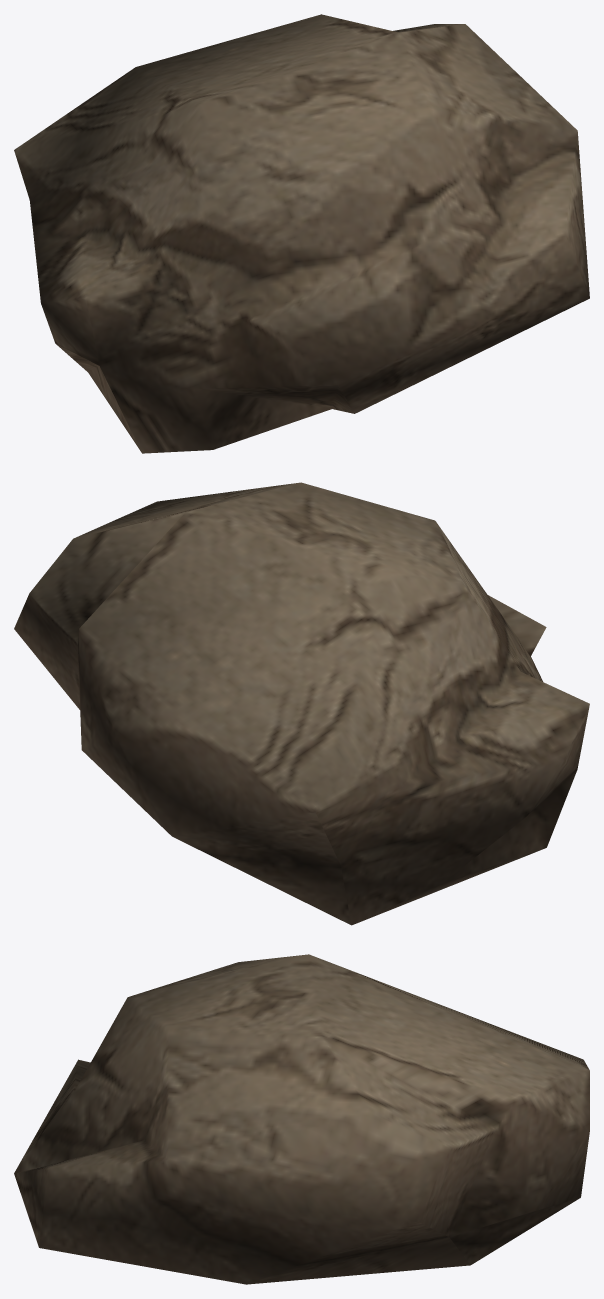
Rendered from shitou05.FBX.
The picture shows the model from 3 angles, top to bottom: view 1: azimuth 30°, elevation 25°; view 2: azimuth 150°, elevation 25°; view 3: azimuth 270°, elevation 25°; orthographic projection. The views are drawn at different scales.
Visible parts, largest first — view 1: polySurface14; view 2: polySurface14; view 3: polySurface14.
Boxes of the visible parts, x1,y1,x2,y2 form: polySurface14: [14, 14, 589, 453]; polySurface14: [14, 482, 589, 925]; polySurface14: [14, 954, 589, 1284].
Size of the model in its own units: 66.59 by 38.79 by 64.61.
